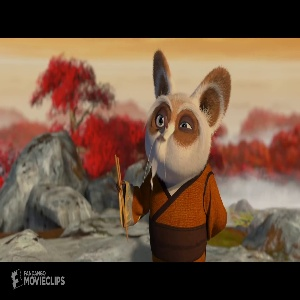shifu: (107, 48, 234, 261)
